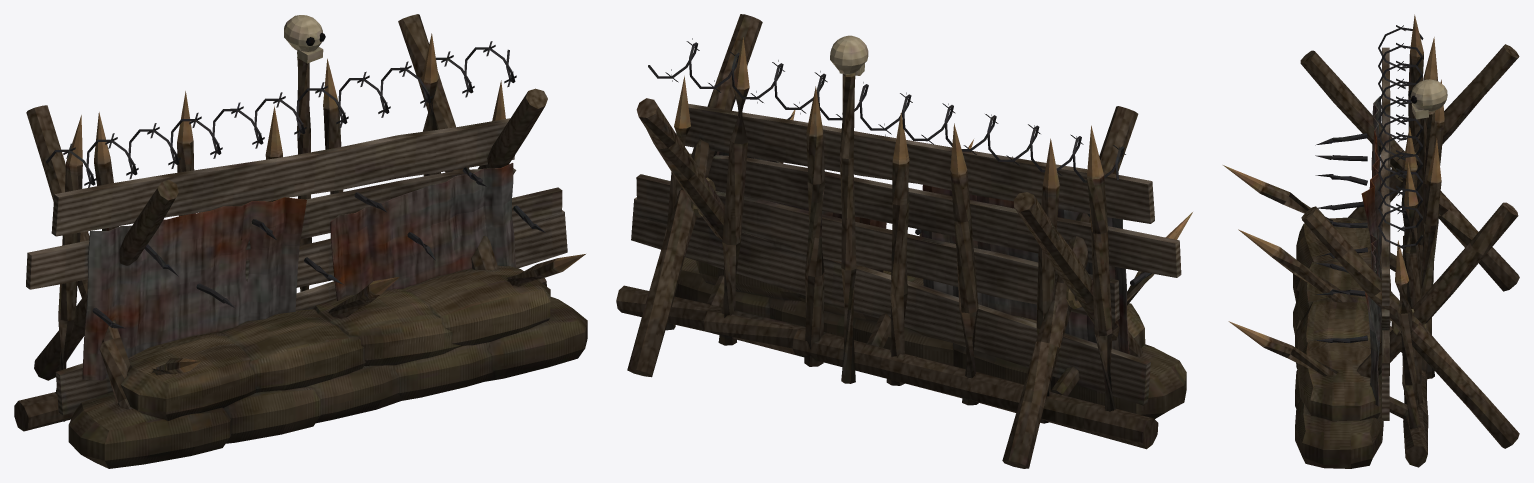
The model's file is barricade.glb.
3 views of the same model, side by side, from view 1: azimuth 30°, elevation 25°; view 2: azimuth 150°, elevation 25°; view 3: azimuth 270°, elevation 25° (orthographic). The views are drawn at different scales.
Visible parts, largest first — view 1: Lv2, Lv1, Lv3; view 2: Lv1, Lv2, Lv3; view 3: Lv1, Lv2, Lv3.
Boxes of the visible parts, x1,y1,x2,y2 form: Lv2: (68, 163, 587, 468); Lv1: (14, 14, 585, 431); Lv3: (46, 15, 545, 328); Lv1: (616, 14, 1192, 468); Lv2: (674, 151, 1186, 418); Lv3: (648, 35, 1151, 383); Lv1: (1223, 14, 1519, 467); Lv2: (1293, 96, 1383, 468); Lv3: (1315, 25, 1447, 378).
Bounding box in the file's own units: 3.26 × 2 × 1.79.
Materials: 1 (1 with a texture image).
